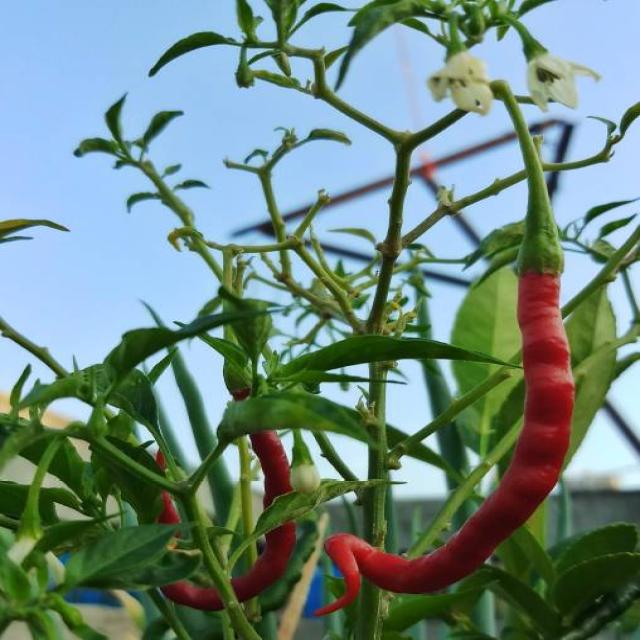Ripe: (357, 272, 573, 592), (231, 522, 295, 601), (316, 534, 359, 615), (253, 432, 290, 505), (163, 580, 222, 611)
